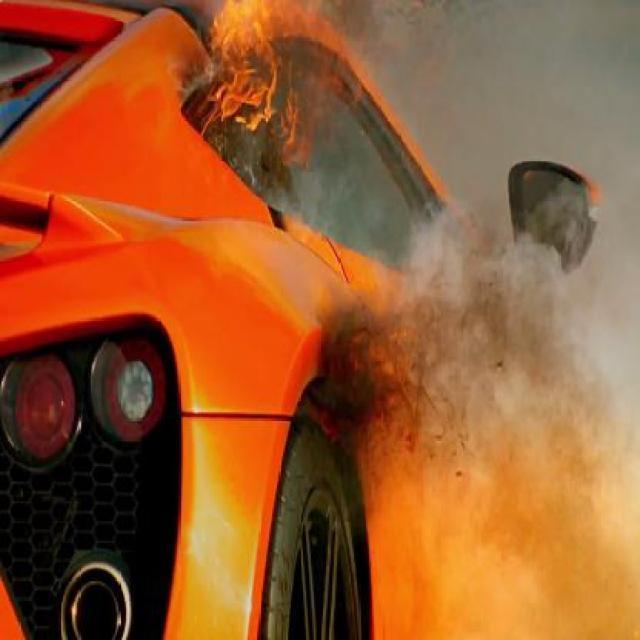Fire: (158, 0, 382, 172)
Smoke: (386, 206, 632, 492), (362, 2, 632, 208)
